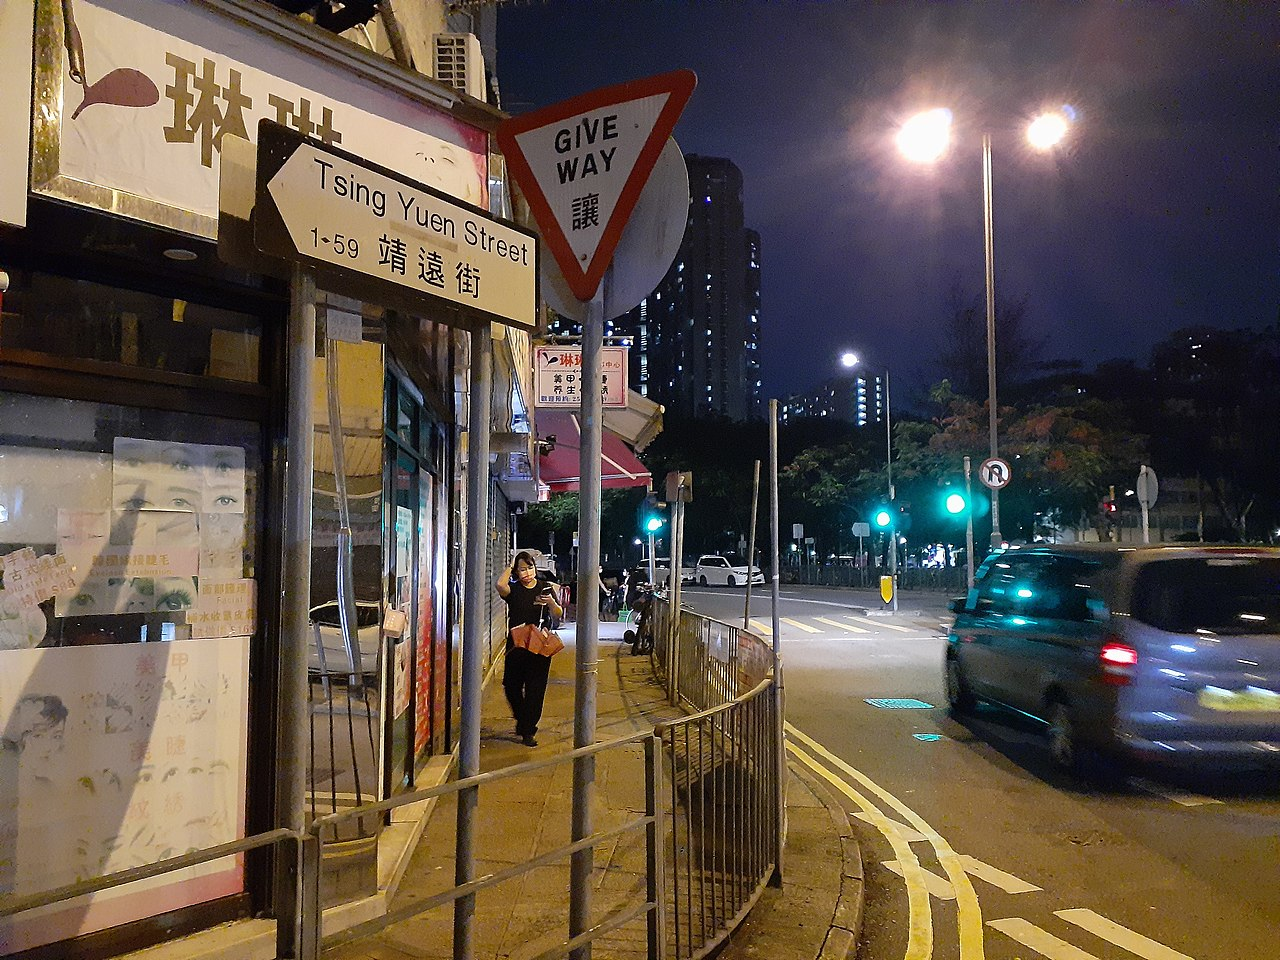Give Way: (505, 61, 694, 295)
